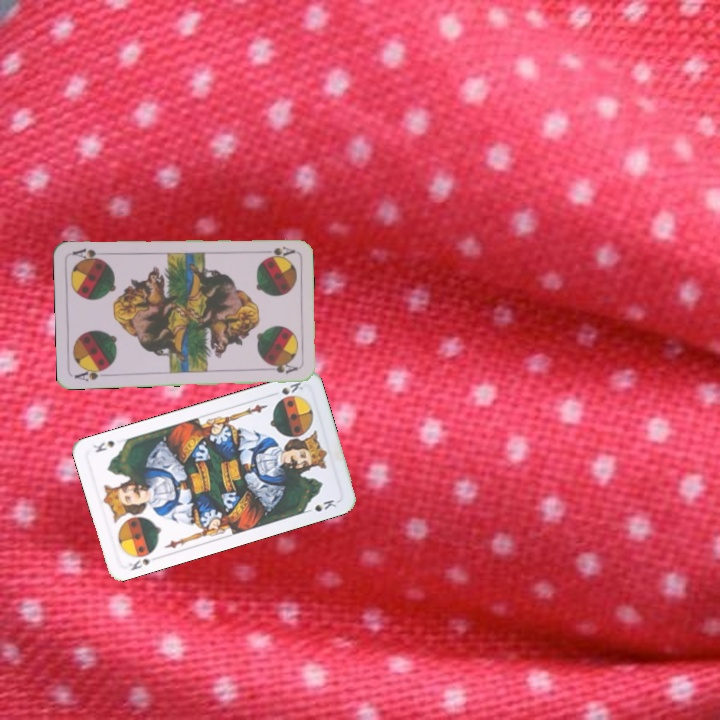SA: (71, 364, 112, 384), (256, 242, 297, 258)
SK: (267, 378, 306, 403), (124, 554, 153, 573)
